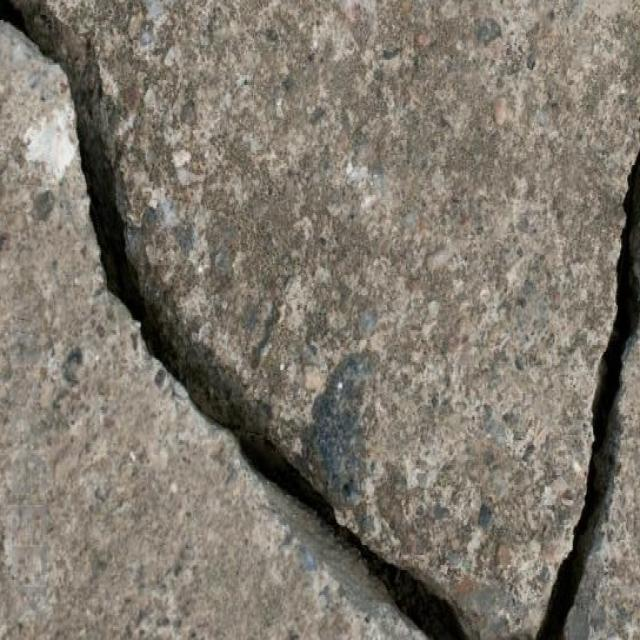crack: (182, 334, 476, 637), (0, 0, 180, 390), (533, 141, 639, 637)
